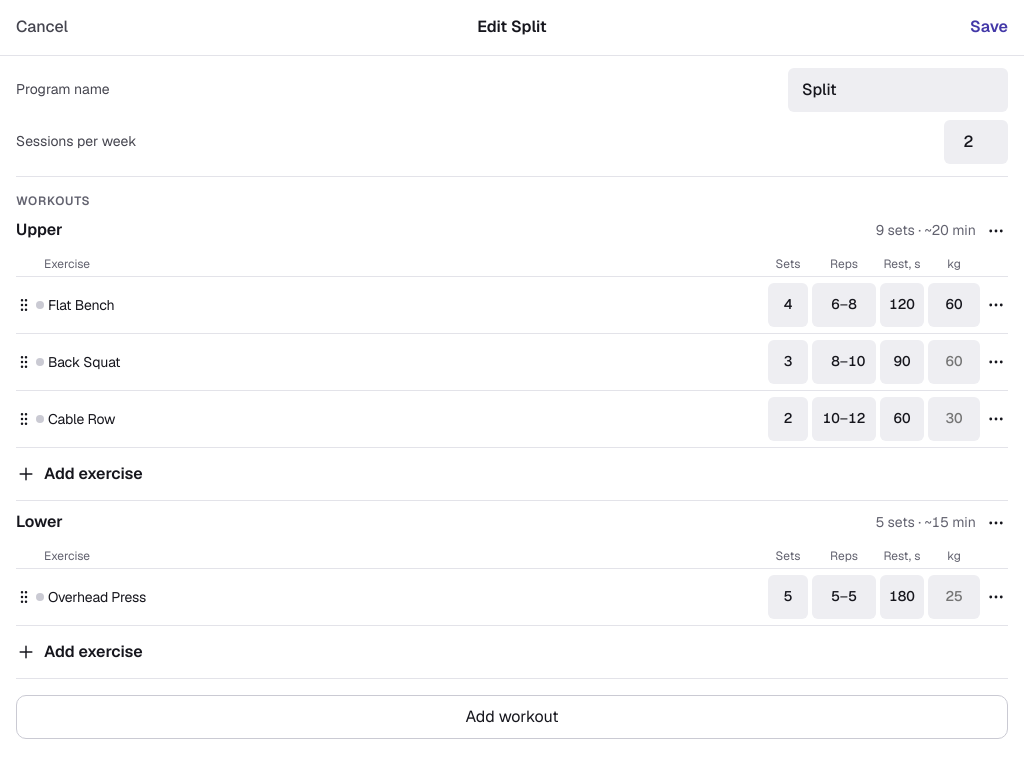
O14 Pick closes the exercise search
Click the button "Add exercise" below "Cable Row". click: (93, 473)
box: [16, 448, 1008, 500]
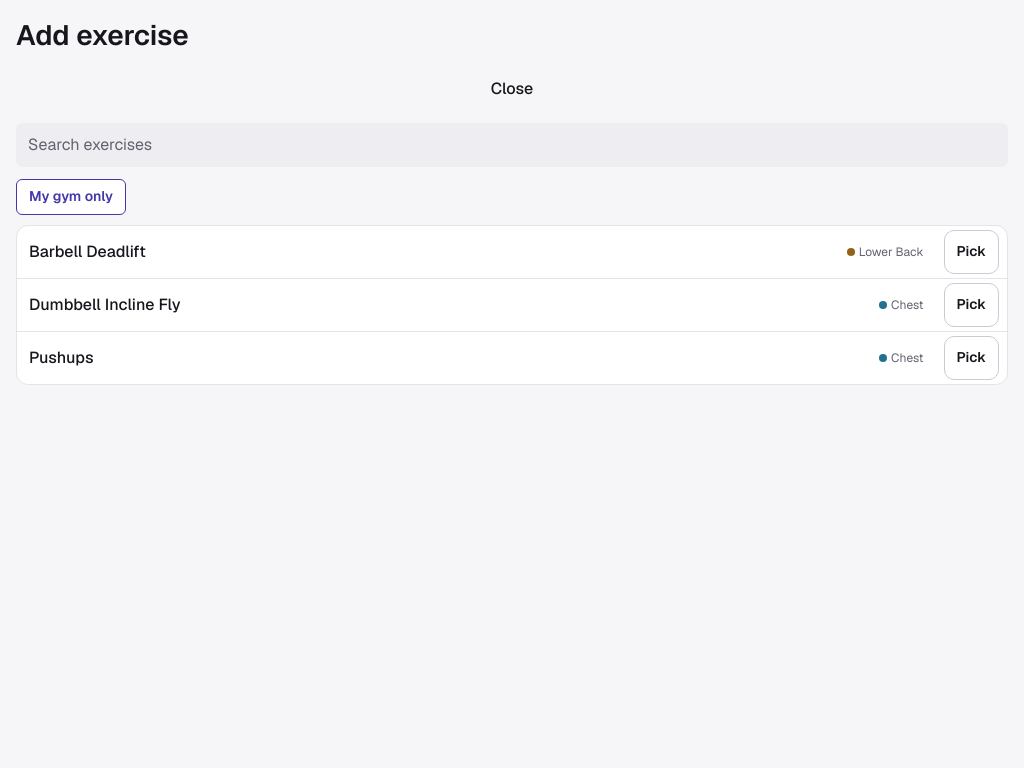
Type "push" into the search field labelled "Search exercises". click: (512, 145)
box: [16, 123, 1008, 167]
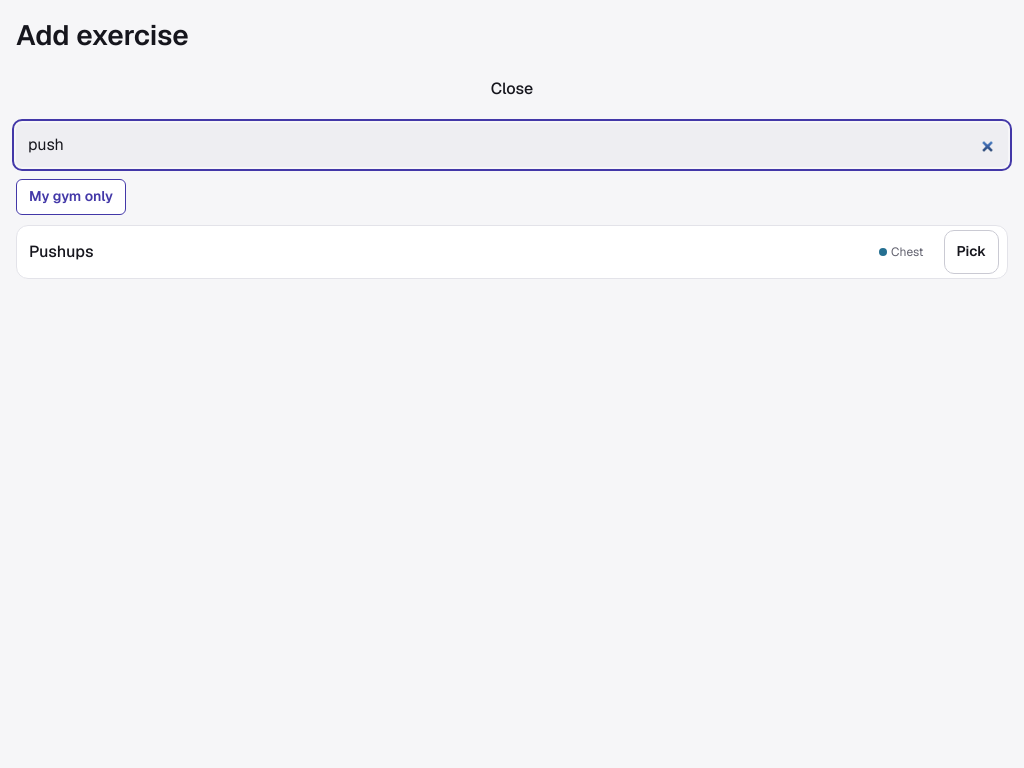
Click the button "Pick". click: (971, 252)
box: [944, 230, 999, 274]
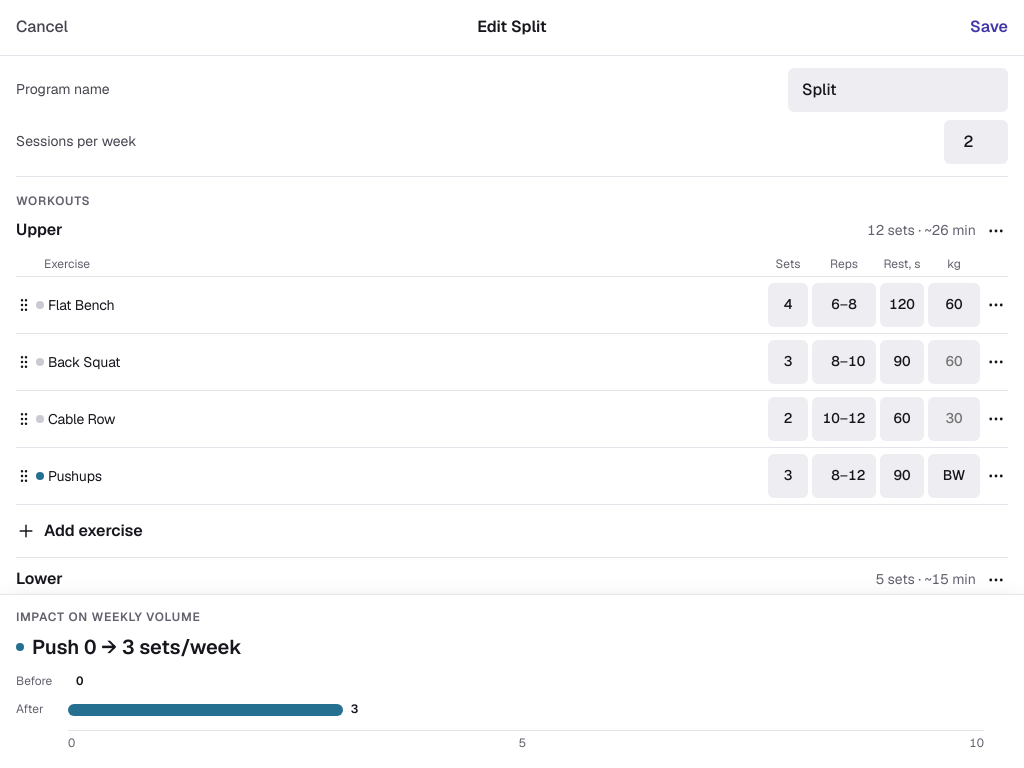
Expected: the field labelled "Search exercises" is not shown
Expected: the button "Pick" is gone
